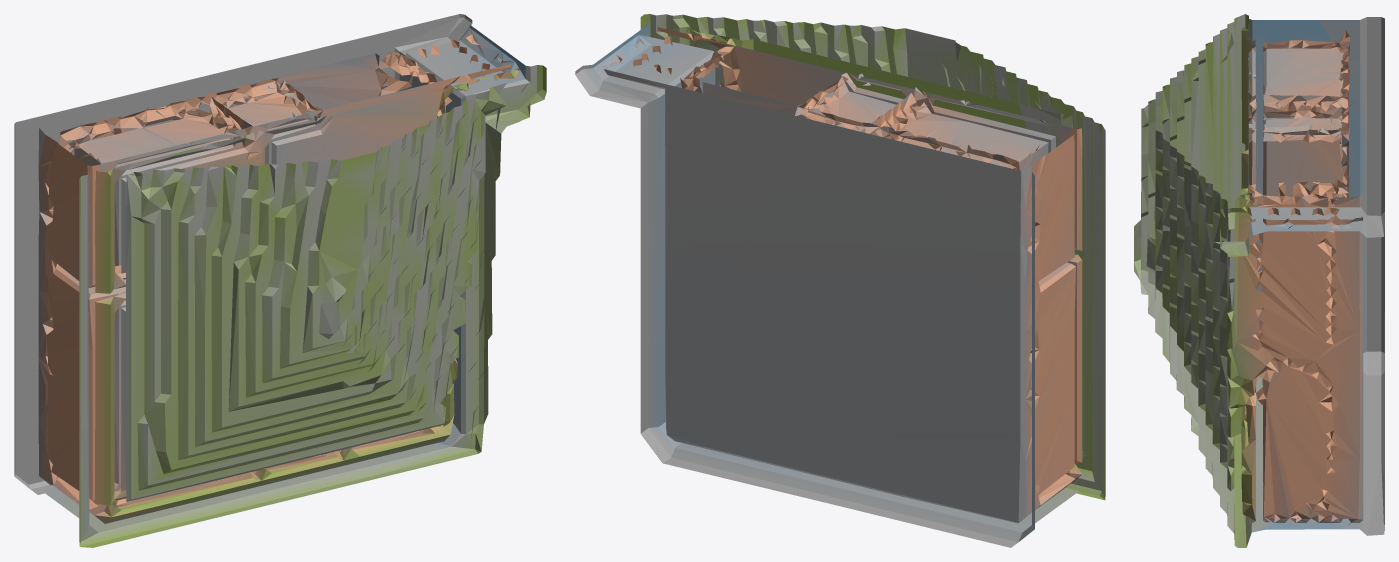
File: 05728_optimized_cutaway.glb
The picture shows the model from 3 angles, left to right: view 1: azimuth 30°, elevation 25°; view 2: azimuth 150°, elevation 25°; view 3: azimuth 270°, elevation 25°; orthographic projection. The views are drawn at different scales.
Visible parts, largest first — view 1: world; view 2: world; view 3: world.
Part boxes in pixels (x1,y1,x2,y2): world: (14, 14, 546, 547); world: (575, 14, 1105, 547); world: (1134, 14, 1384, 547).
Size of the model in its own units: 71 by 54 by 35.01.
